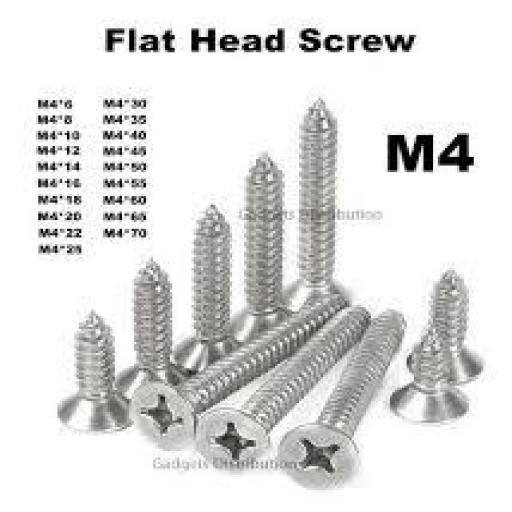Phillips: (275, 417, 358, 495), (197, 395, 266, 481), (135, 374, 196, 456)
